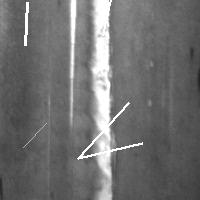scratches: (81, 1, 115, 199), (73, 97, 134, 163), (73, 138, 147, 163), (67, 1, 78, 131), (18, 118, 51, 152), (98, 0, 123, 40), (20, 0, 32, 50)
